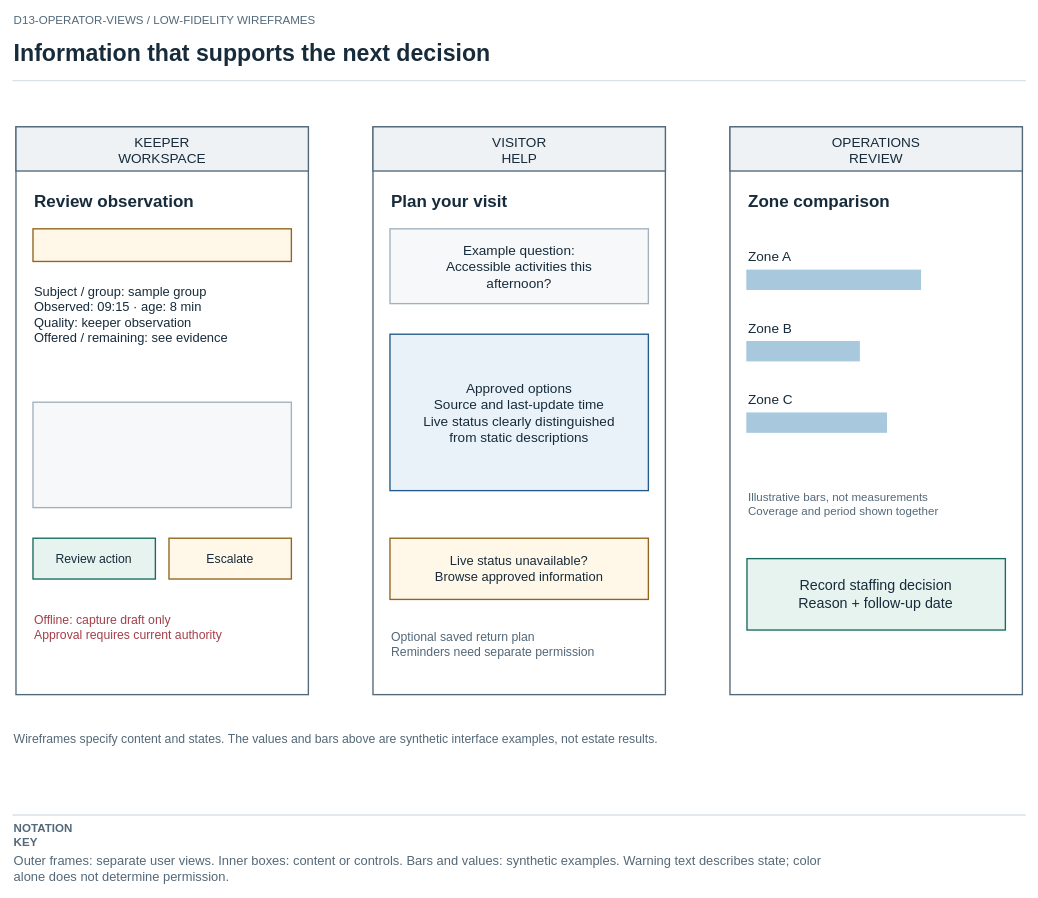
Some shapes in this 1038 by 898 pixel diagram are drawn without their labels. Each missing label, with the centre of its shape:
"Evidence panel Measurement, units and provenance" goes at point 162,454.
"SYNTHETIC EXAMPLE · task v3" goes at point 162,245.
